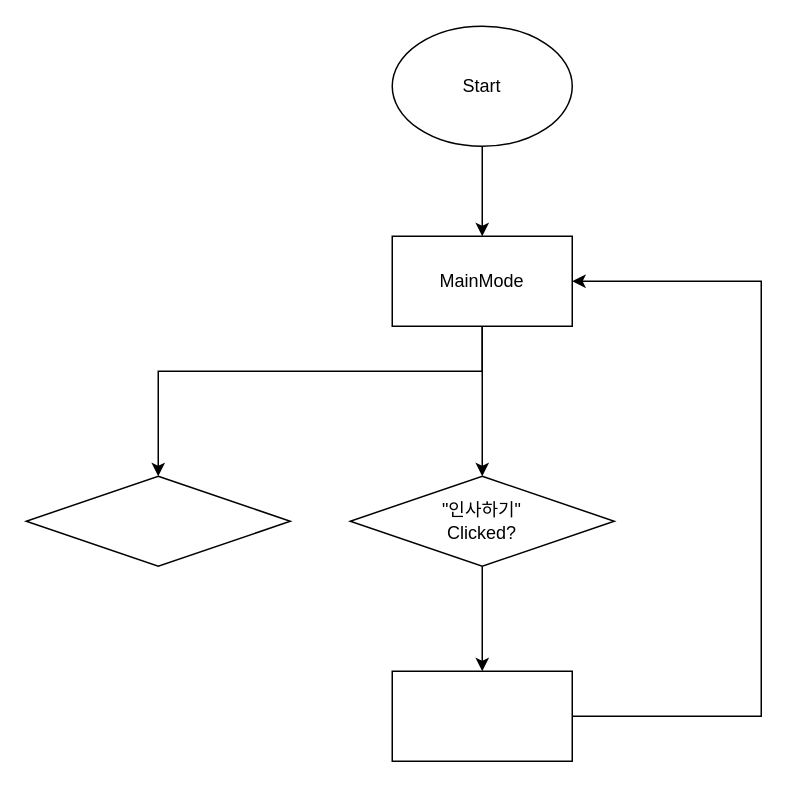
Image size: 800x788. Some labels were removed from this diagram. The centre of each missing label's shape, as x and y in pixels:
"놀아주기" Clicked?: point (157, 520)
인사하기: point (481, 715)
